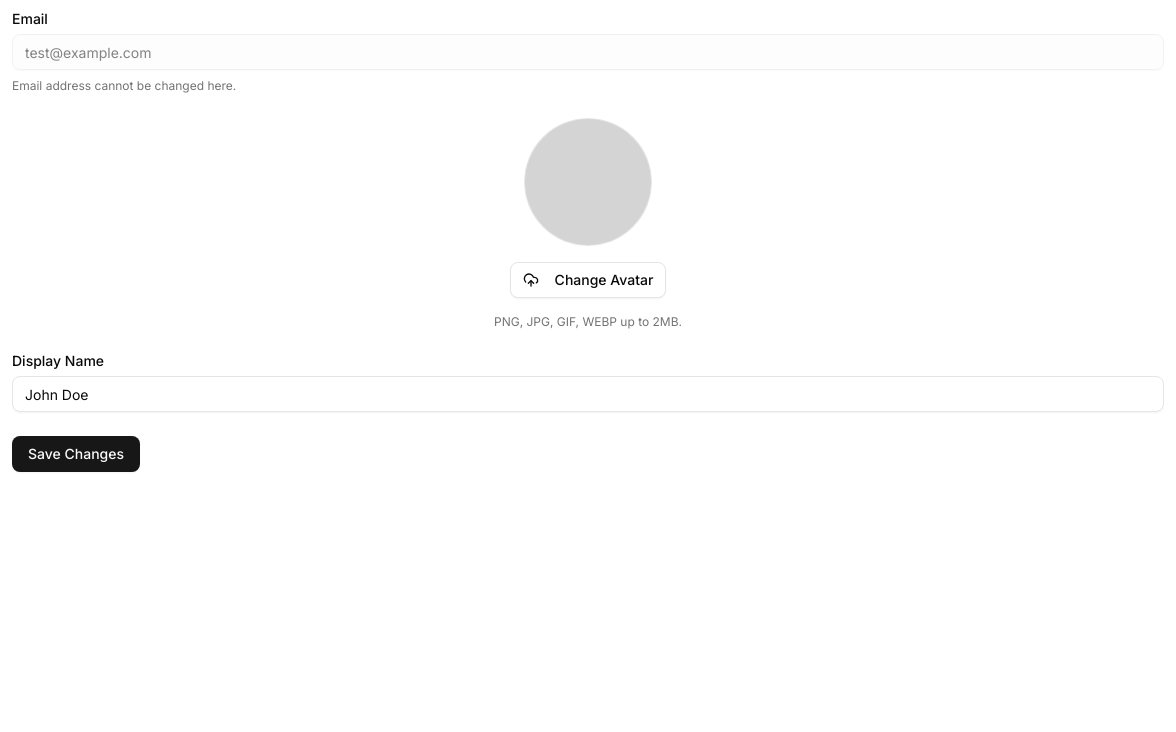
Test: Profile Update Flow Integration › Profile Information Update › should successfully update profile information
Replace the text in the field showing "John Doe" with "Jane Smith" at (588, 394), box [12,376,1164,412]
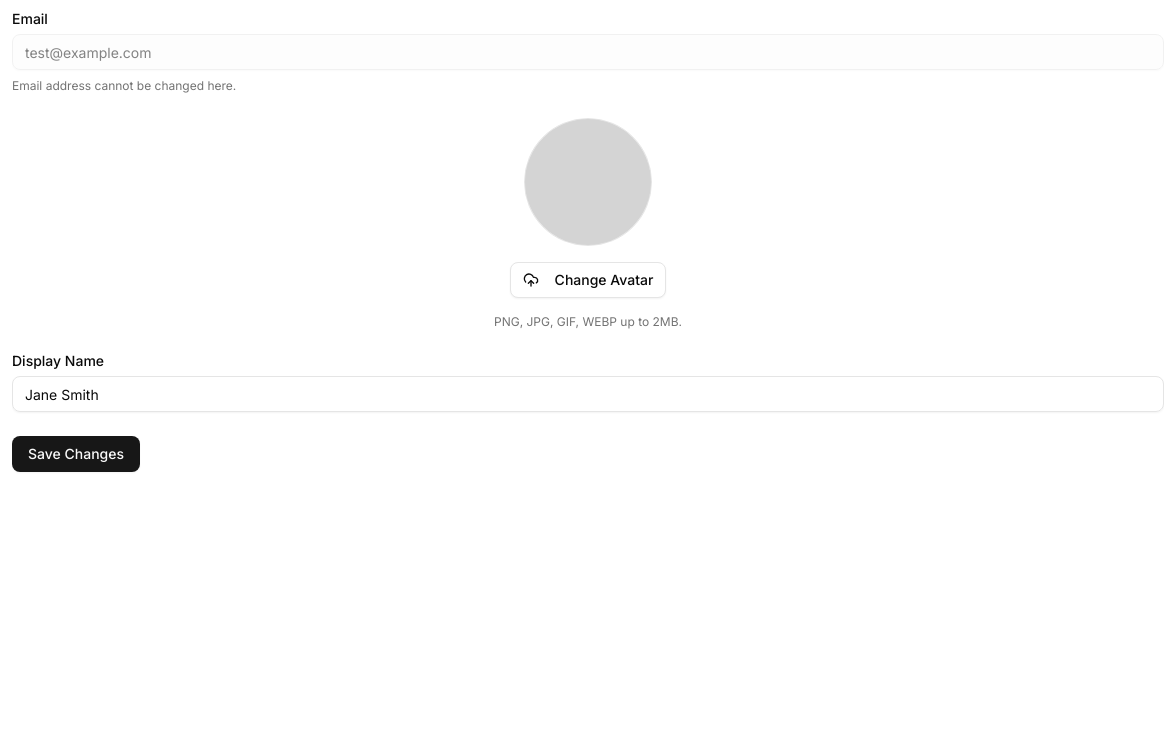
Click the button "Save Changes".
click(76, 454)  # box [12,436,140,472]
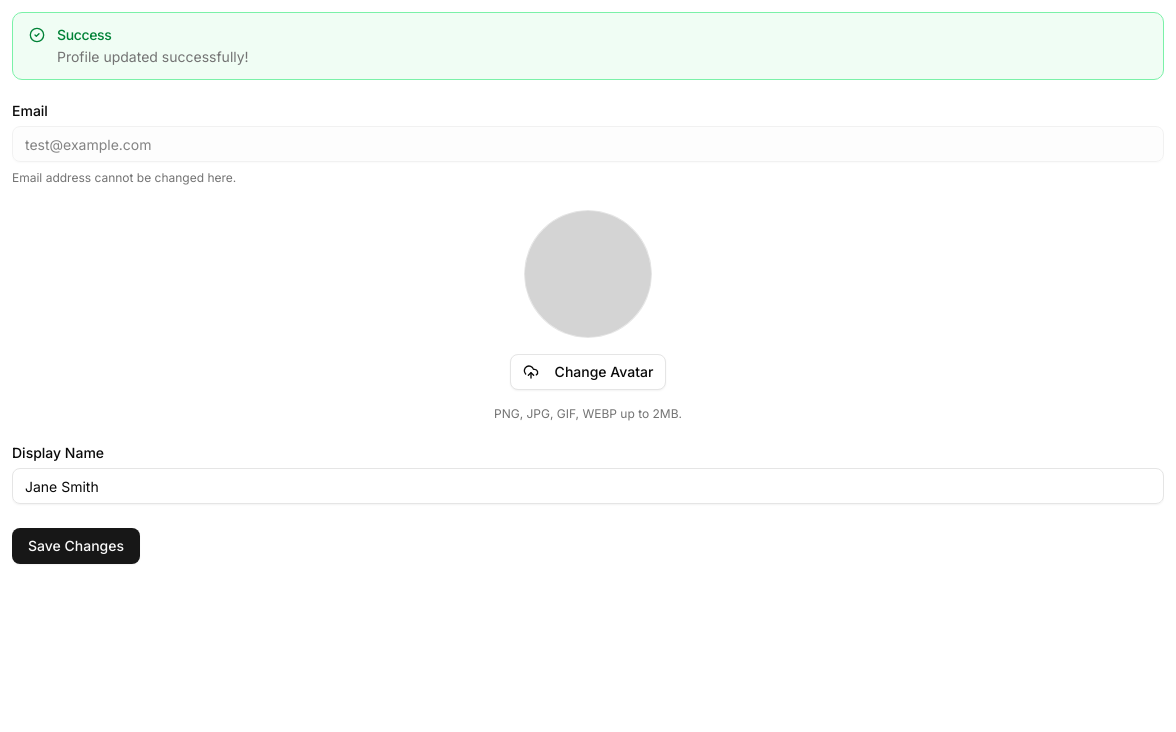
Check: the text "Profile updated successfully!" is shown, box [57,48,249,65]
